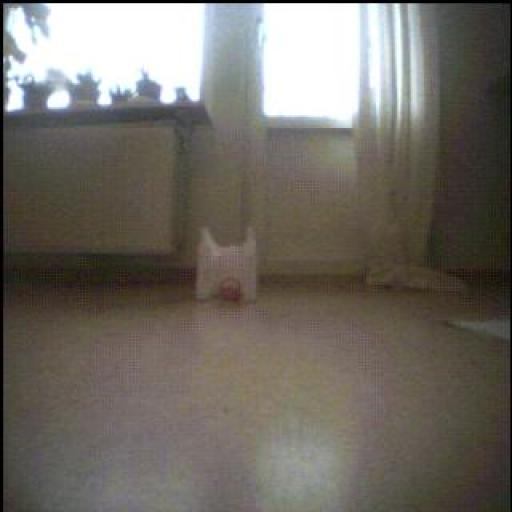Basket: (220, 278, 243, 303)
